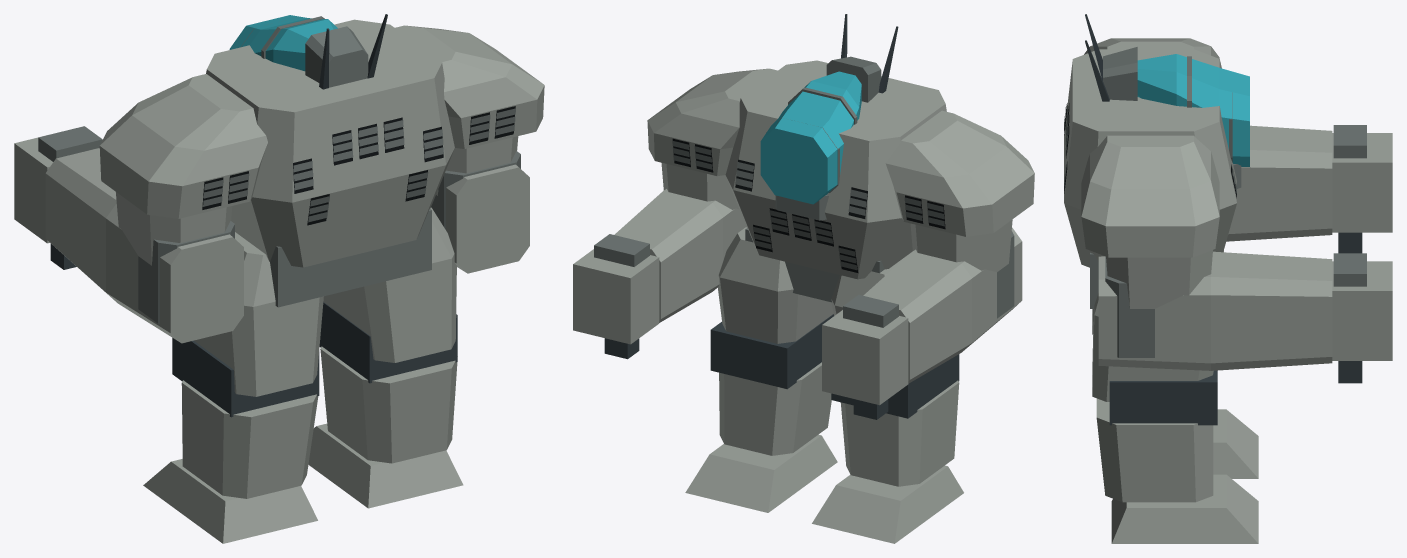
File: battlemaster.glb
3 renders of one model, left to right at view 1: azimuth 30°, elevation 25°; view 2: azimuth 150°, elevation 25°; view 3: azimuth 270°, elevation 25°, orthographic. The views are drawn at different scales.
Visible parts, largest first — view 1: LT, LA@forearm, RT, LL-shin, RL-shin, CT, LL, RL, RA@forearm, LL-foot, RL-foot, pelvis (+11 smaller); view 2: LT, RT, RL-shin, HD, LA@forearm, LL-shin, RA@forearm, RA@held, LA@held, RL, RL-foot, LL-foot (+6 smaller); view 3: RT, RA@forearm, RL-shin, LA@forearm, HD, RL-foot, RA@held, LA@held, RA, LT, LL-foot, CT (+3 smaller).
Part boxes in pixels (x1,y1,x2,y2): LT: (99,46,330,267); LA@forearm: (45,148,243,343); RT: (334,19,544,243); LL-shin: (172,338,319,498); RL-shin: (319,302,457,463); CT: (246,14,407,263); LL: (194,232,323,396); RL: (323,207,456,362); RA@forearm: (446,164,529,273); LL-foot: (143,459,317,543); RL-foot: (308,423,463,508); pelvis: (270,209,431,307); LT: (834,83,1034,279); RT: (647,60,828,258); RL-shin: (710,314,833,455); HD: (760,56,881,220); LA@forearm: (863,227,1022,383); LL-shin: (831,354,959,486); RA@forearm: (614,189,746,322); RA@held: (573,234,659,359); LA@held: (822,295,908,419); RL: (717,227,833,343); RL-foot: (685,434,837,512); LL-foot: (812,465,963,543); RT: (1064,107,1236,267); RA@forearm: (1098,251,1332,370); RL-shin: (1096,370,1217,502); LA@forearm: (1226,125,1332,241); HD: (1103,47,1249,188); RL-foot: (1111,474,1258,543); RA@held: (1332,253,1392,383); LA@held: (1332,125,1392,253); RA: (1106,250,1212,308); LT: (1064,38,1221,150); LL-foot: (1213,409,1258,478); CT: (1064,14,1236,184).
Bounding box in the file's own units: 46.36 × 56.33 × 36.35.
